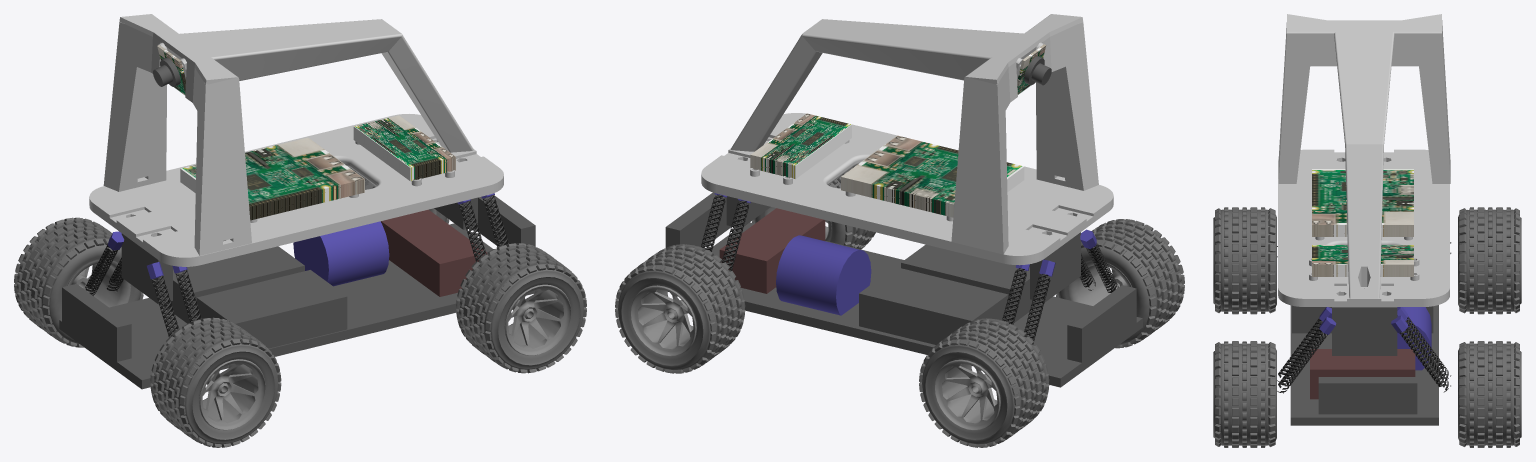
File: donkey.fbx
The picture shows the model from 3 angles, left to right: view 1: azimuth 30°, elevation 25°; view 2: azimuth 150°, elevation 25°; view 3: azimuth 270°, elevation 25°; orthographic projection. The views are drawn at different scales.
Visible parts, largest first — view 1: Body6, Body1, Wheel_5, Wheel_6, pCube1, Wheel_2, pCube6, pCube2, pCube7, pCylinder2, pCube3, pCube8 (+10 smaller); view 2: Body6, Body1, Wheel_4, Wheel_2, pCube1, Wheel_6, pCube3, pCube2, pCylinder2, pCube7, pCube8, pCube6 (+11 smaller); view 3: Body6, Body1, Wheel_6, Wheel_2, Wheel_4, Wheel_5, pCube1, pCube2, pCube5, pCube10, pCube7, pCube8 (+6 smaller).
Boxes of the visible parts, x1=… form: Body6: x1=103, y1=14, x2=473, y2=255; Body1: x1=89, y1=114, x2=503, y2=266; Wheel_5: x1=456, y1=243, x2=586, y2=373; Wheel_6: x1=150, y1=317, x2=281, y2=447; pCube1: x1=59, y1=223, x2=534, y2=389; Wheel_2: x1=14, y1=217, x2=143, y2=347; pCube6: x1=196, y1=270, x2=347, y2=348; pCube2: x1=180, y1=137, x2=364, y2=220; pCube7: x1=381, y1=209, x2=487, y2=296; pCylinder2: x1=293, y1=221, x2=389, y2=286; pCube3: x1=161, y1=246, x2=304, y2=323; pCube8: x1=353, y1=115, x2=455, y2=181; Body6: x1=730, y1=14, x2=1098, y2=254; Body1: x1=701, y1=113, x2=1113, y2=265; Wheel_4: x1=615, y1=244, x2=745, y2=373; Wheel_2: x1=919, y1=318, x2=1049, y2=447; pCube1: x1=667, y1=222, x2=1142, y2=387; Wheel_6: x1=1056, y1=219, x2=1184, y2=348; pCube3: x1=859, y1=267, x2=1008, y2=344; pCube2: x1=841, y1=135, x2=1024, y2=217; pCylinder2: x1=776, y1=235, x2=871, y2=315; pCube7: x1=719, y1=208, x2=825, y2=293; pCube8: x1=750, y1=113, x2=851, y2=178; pCube6: x1=901, y1=244, x2=1041, y2=322; Body6: x1=1278, y1=14, x2=1450, y2=298; Body1: x1=1278, y1=149, x2=1449, y2=306; Wheel_6: x1=1213, y1=207, x2=1276, y2=314; Wheel_2: x1=1458, y1=207, x2=1521, y2=314; Wheel_4: x1=1458, y1=341, x2=1521, y2=447; Wheel_5: x1=1213, y1=341, x2=1276, y2=447; pCube1: x1=1290, y1=305, x2=1438, y2=425; pCube2: x1=1312, y1=169, x2=1413, y2=236; pCube5: x1=1318, y1=377, x2=1417, y2=414; pCube10: x1=1332, y1=307, x2=1397, y2=355; pCube7: x1=1310, y1=349, x2=1415, y2=399; pCube8: x1=1312, y1=245, x2=1413, y2=276.
Bounding box in the file's own units: 23.94 × 18.36 × 17.03.
8 materials, 2 textured.
